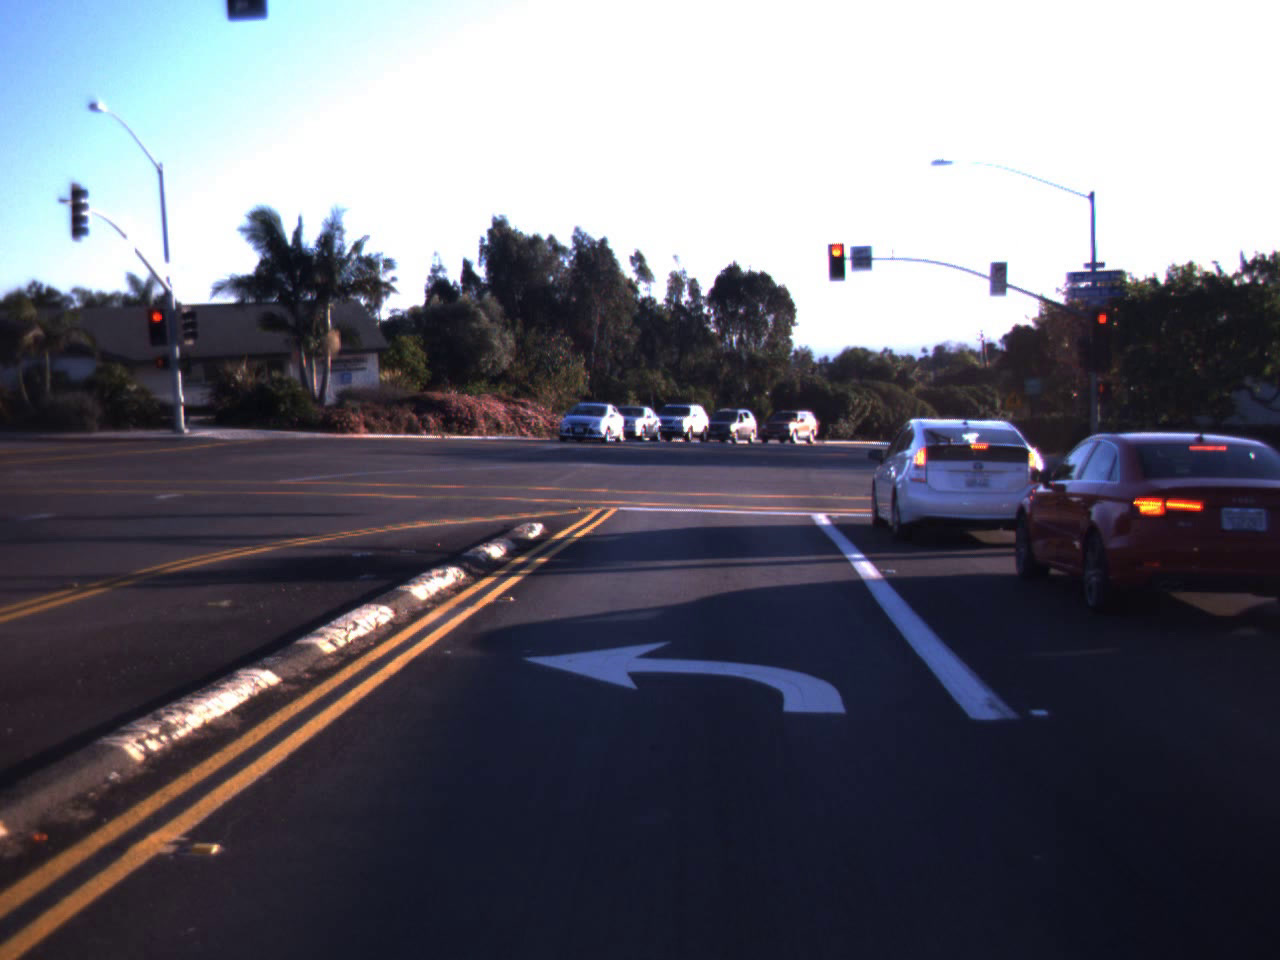stop: (822, 238, 852, 292), (1094, 311, 1112, 347), (146, 311, 170, 338)
